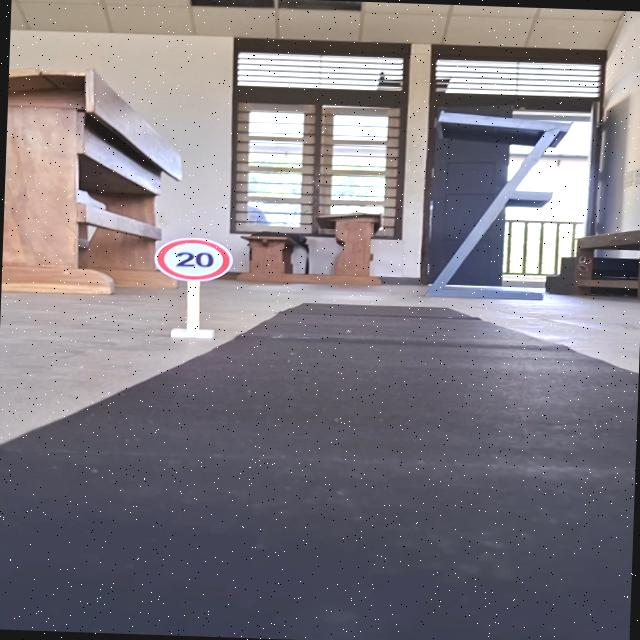Speed20: (148, 233, 236, 284)
